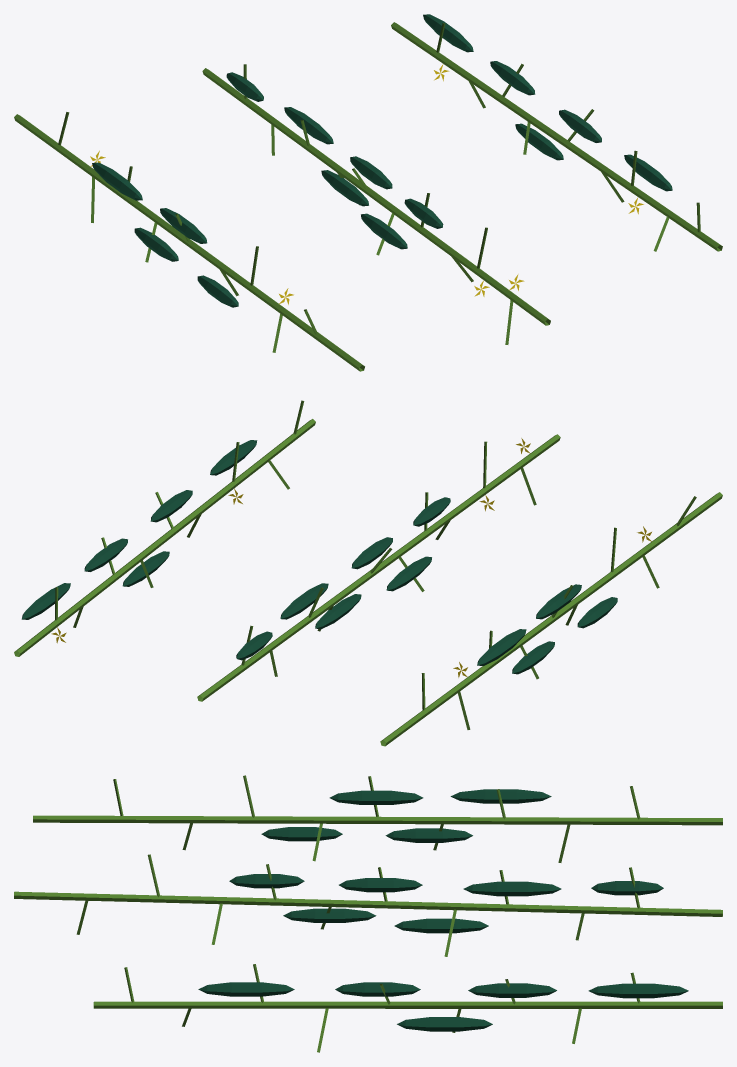
File: r27c2_stems.obj
3 renders of one model, top to bottom at view 1: azimuth 30°, elevation 25°; view 2: azimuth 150°, elevation 25°; view 3: azimuth 270°, elevation 25°, orthographic. The views are drawn at different scales.
Parts seen in each view (by area): view 1: r27c2_stems; view 2: r27c2_stems; view 3: r27c2_stems.
Part boxes in pixels (x1,y1,x2,y2): r27c2_stems: (14,14,722,371); r27c2_stems: (14,400,722,746); r27c2_stems: (14,775,722,1052).
Size of the model in its own units: 1.41 by 0.3173 by 2.04.
